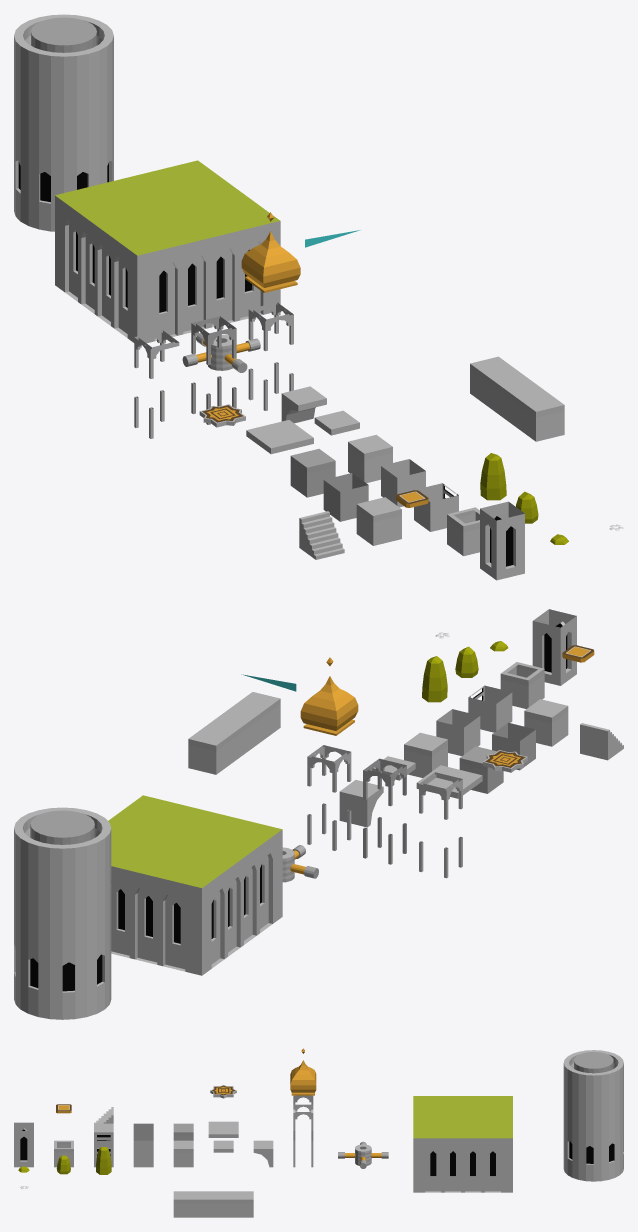
Rendered from monument_valley_assets_textured.fbx.
3 renders of one model, top to bottom at view 1: azimuth 30°, elevation 25°; view 2: azimuth 150°, elevation 25°; view 3: azimuth 270°, elevation 25°, orthographic. The views are drawn at different scales.
Visible parts, largest first — view 1: main_platform, tower, 2_cubes_window, roof, light_grey_block_with_cap.001, laddder_upside, dark_grey_block_with_cap, base_dark_grey_block, staircase, light_grey_block_with_cap, wide_bridge, base_ladder (+13 smaller); view 2: main_platform, tower, 2_cubes_window, roof, light_grey_block_with_cap.004, laddder_upside, base_light_grey_block, base_button, base_ladder, light_grey_block_with_cap, link, base_dark_grey_block (+15 smaller); view 3: main_platform, tower, 2_cubes_window, roof, light_grey_block_with_cap, base_light_grey_block, lever, light_grey_block_with_cap.004, light_grey_block_with_cap.003, light_grey_block_with_cap.002, light_grey_block_with_cap.001, wide_bridge (+10 smaller).
Part boxes in pixels (x1,y1,x2,y2): main_platform: (55, 160, 280, 343); tower: (14, 14, 113, 231); 2_cubes_window: (480, 501, 524, 580); roof: (241, 212, 300, 292); light_grey_block_with_cap.001: (519, 393, 564, 441); laddder_upside: (356, 497, 401, 545); dark_grey_block_with_cap: (290, 449, 335, 497); base_dark_grey_block: (323, 473, 368, 521); staircase: (299, 511, 344, 559); light_grey_block_with_cap: (348, 434, 392, 482); wide_bridge: (246, 420, 313, 454); base_ladder: (414, 483, 458, 531); main_platform: (108, 795, 282, 975); tower: (14, 807, 111, 1019); 2_cubes_window: (532, 609, 576, 685); roof: (300, 657, 358, 735); light_grey_block_with_cap.004: (188, 727, 232, 774); laddder_upside: (524, 699, 568, 746); base_light_grey_block: (436, 709, 480, 756); base_button: (500, 662, 544, 708); base_ladder: (468, 685, 512, 732); light_grey_block_with_cap: (404, 732, 447, 777); link: (339, 780, 383, 827); base_dark_grey_block: (492, 722, 535, 770); main_platform: (413, 1096, 512, 1192); tower: (563, 1050, 623, 1181); 2_cubes_window: (14, 1122, 33, 1167); roof: (290, 1048, 316, 1095); light_grey_block_with_cap: (173, 1140, 193, 1167); base_light_grey_block: (133, 1140, 153, 1167); lever: (338, 1141, 388, 1168); light_grey_block_with_cap.004: (233, 1191, 253, 1217); light_grey_block_with_cap.003: (213, 1191, 233, 1217); light_grey_block_with_cap.002: (193, 1191, 213, 1217); light_grey_block_with_cap.001: (173, 1191, 193, 1217); wide_bridge: (208, 1121, 238, 1137).
Size of the model in its own units: 1117 by 634 by 3056.
